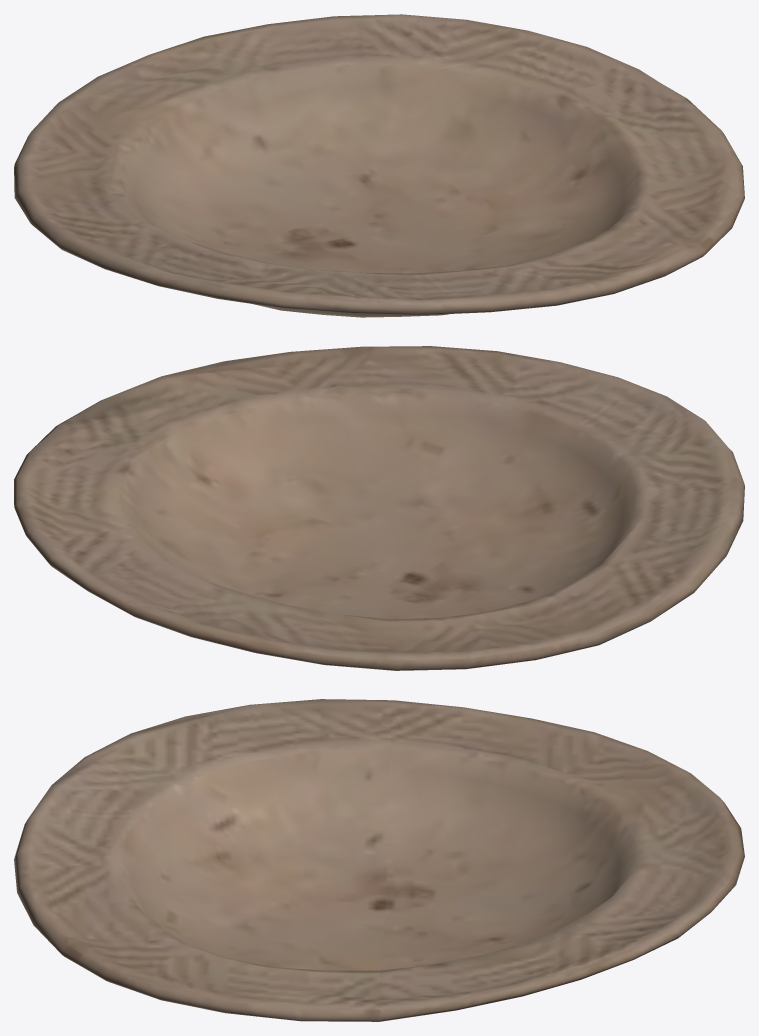
File: ph_carved_wooden_plate.glb
The picture shows the model from 3 angles, top to bottom: view 1: azimuth 30°, elevation 25°; view 2: azimuth 150°, elevation 25°; view 3: azimuth 270°, elevation 25°; orthographic projection. The views are drawn at different scales.
Parts seen in each view (by area): view 1: carved_wooden_plate; view 2: carved_wooden_plate; view 3: carved_wooden_plate.
Part boxes in pixels (bbox=[...]): carved_wooden_plate: bbox=[14, 14, 744, 317]; carved_wooden_plate: bbox=[14, 346, 744, 670]; carved_wooden_plate: bbox=[14, 699, 744, 1021].
Size of the model in its own units: 0.2718 by 0.0377 by 0.2688.
1 material, 1 textured.
